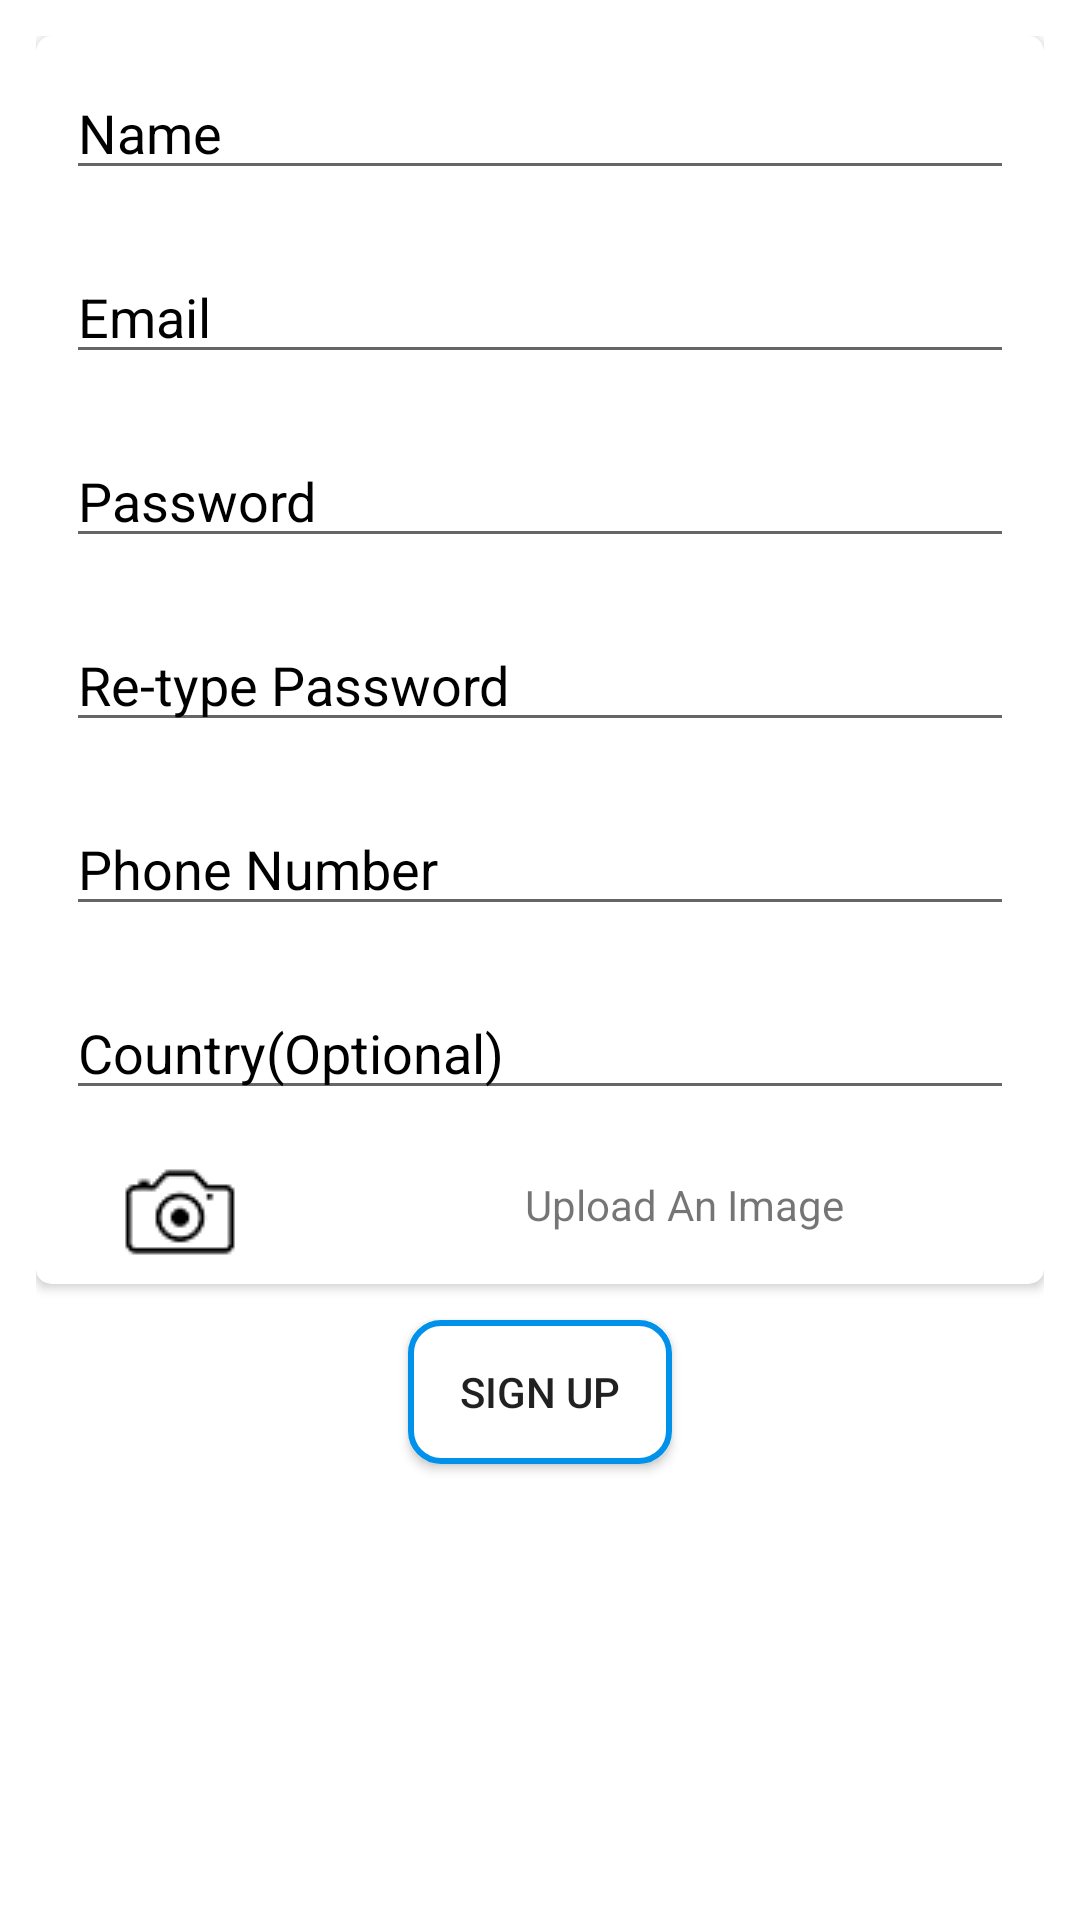

Icon click points for this 1080w x 1920h phone screenshot, format (x,y):
camera: (180,1212)
